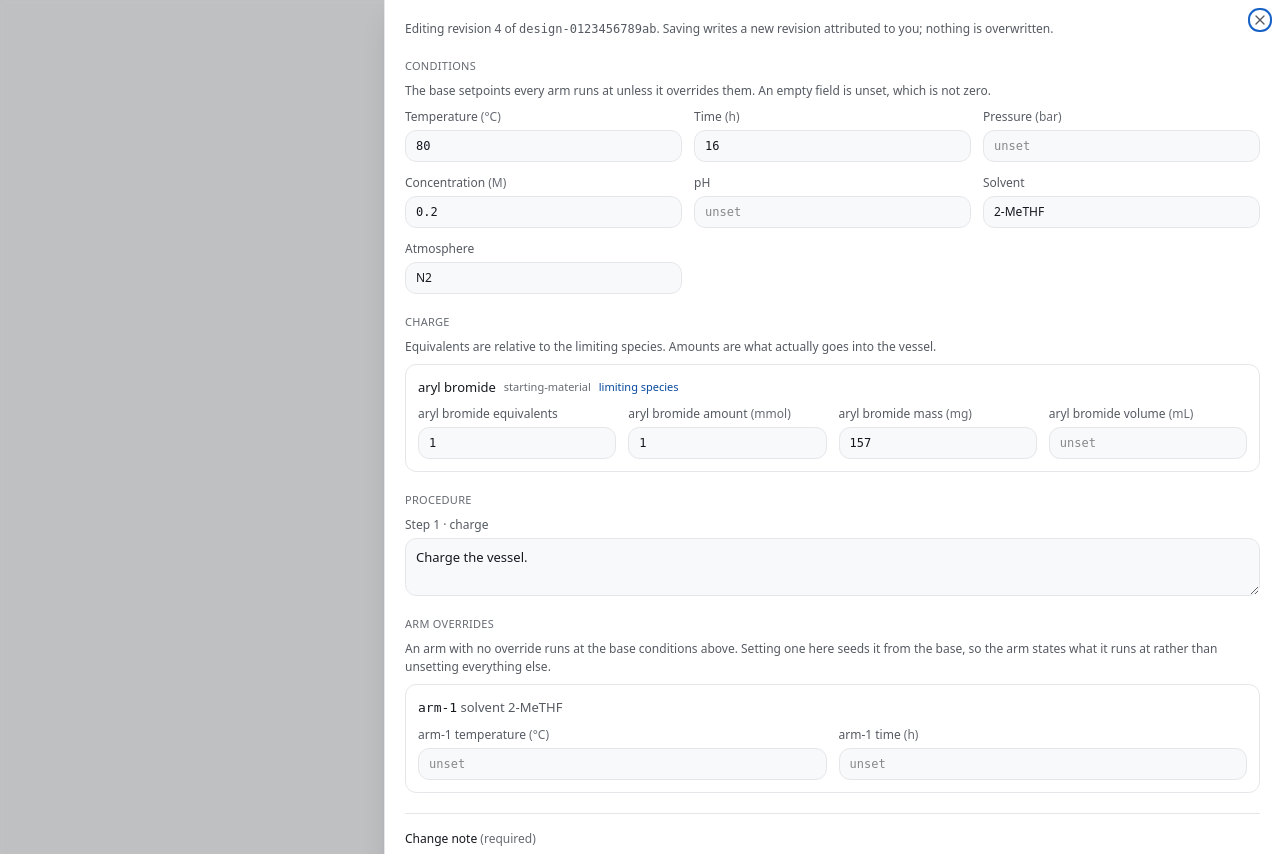
Scenario: ProtocolEditor › clears the box when the override behind it is cleared
Type "60" into the field labelled "arm-1 temperature (°C)" at (622, 764), box [418,748,826,780]
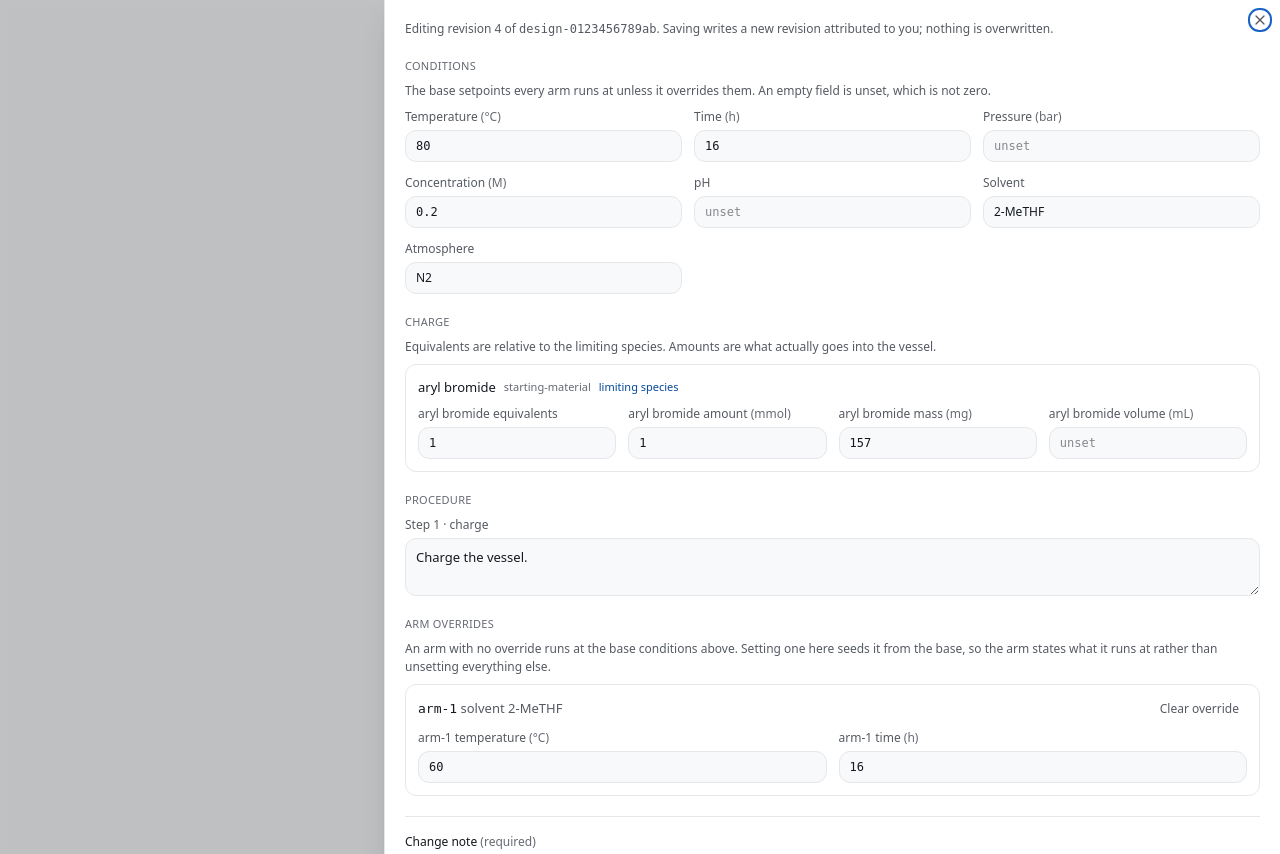
Click the button "Clear override" at (1199, 709), box [1152,697,1247,721]
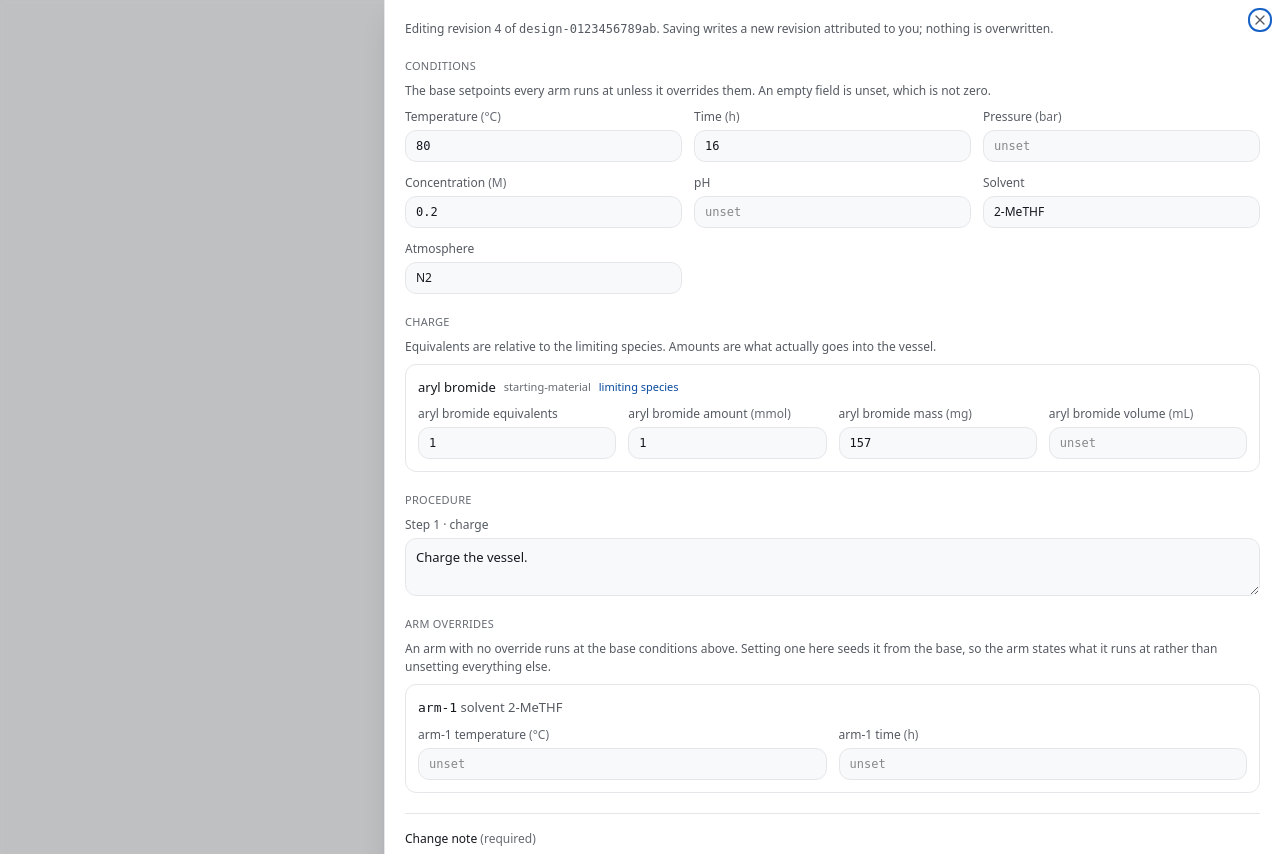
Expected: the field labelled "arm-1 temperature (°C)" is empty, [418,748,826,780]
